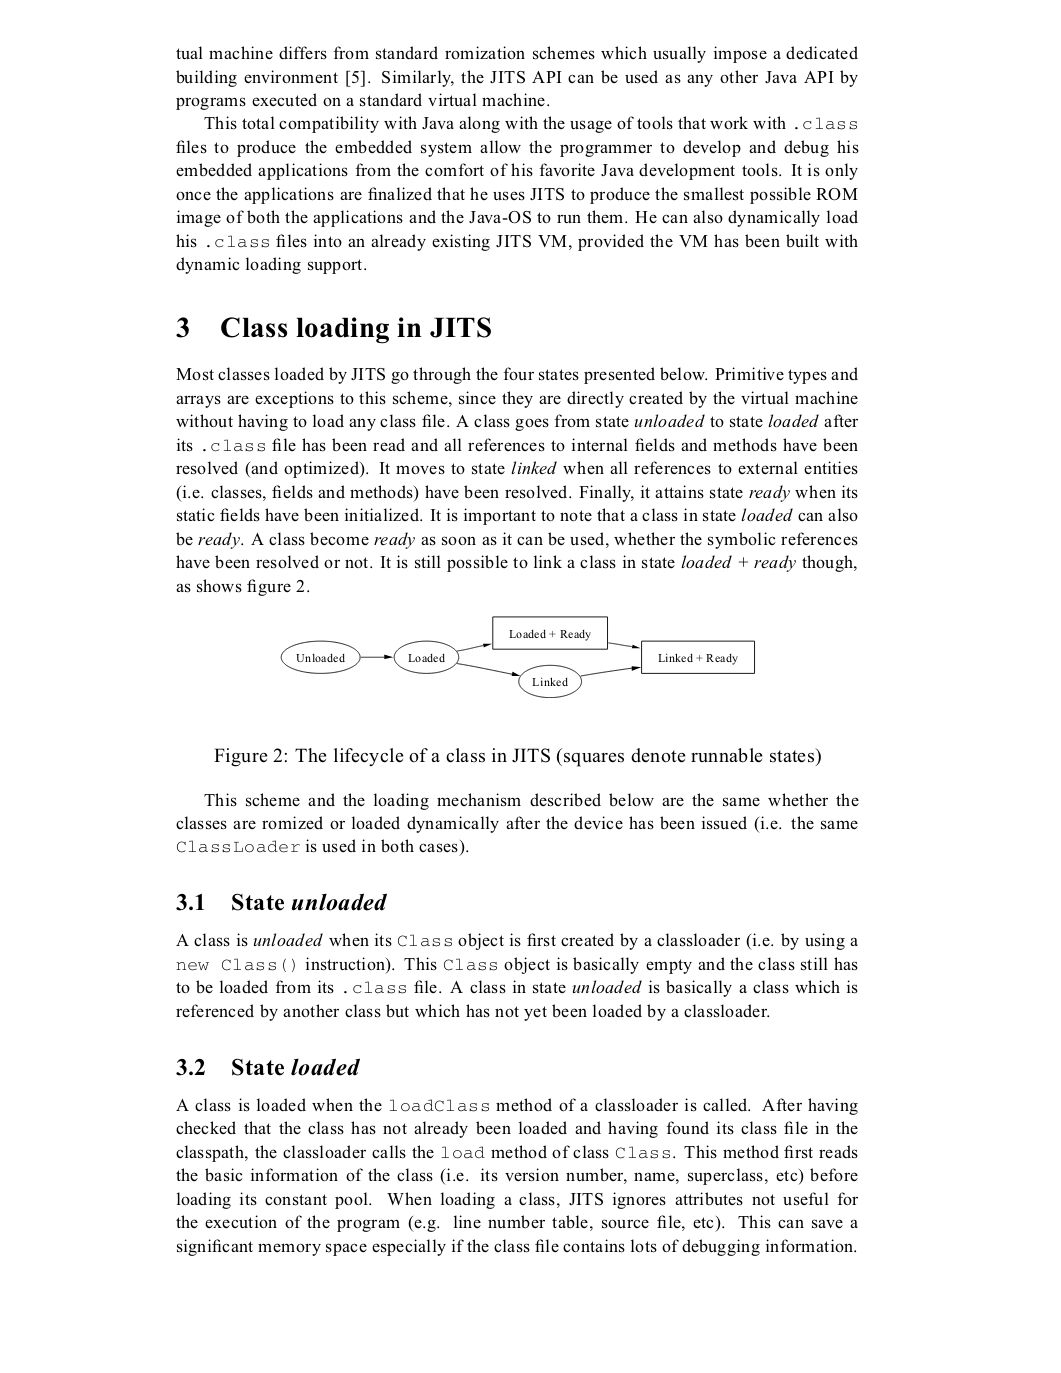figure: (280, 615, 755, 698)
